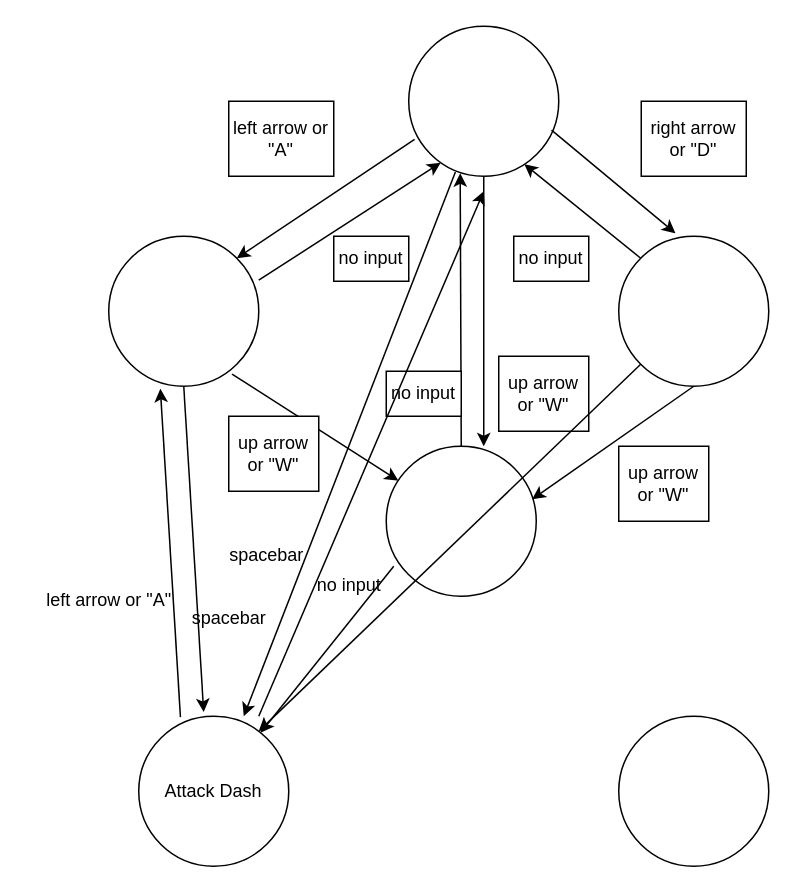
Some shapes in this 795 by 893 pixel diagram are drawn without their labels. Each missing label, with the centre of its shape:
Crouch/slide: [693,790]
Idle: [483,100]
jump: [460,520]
Run Left: [183,310]
Run Right: [693,310]
